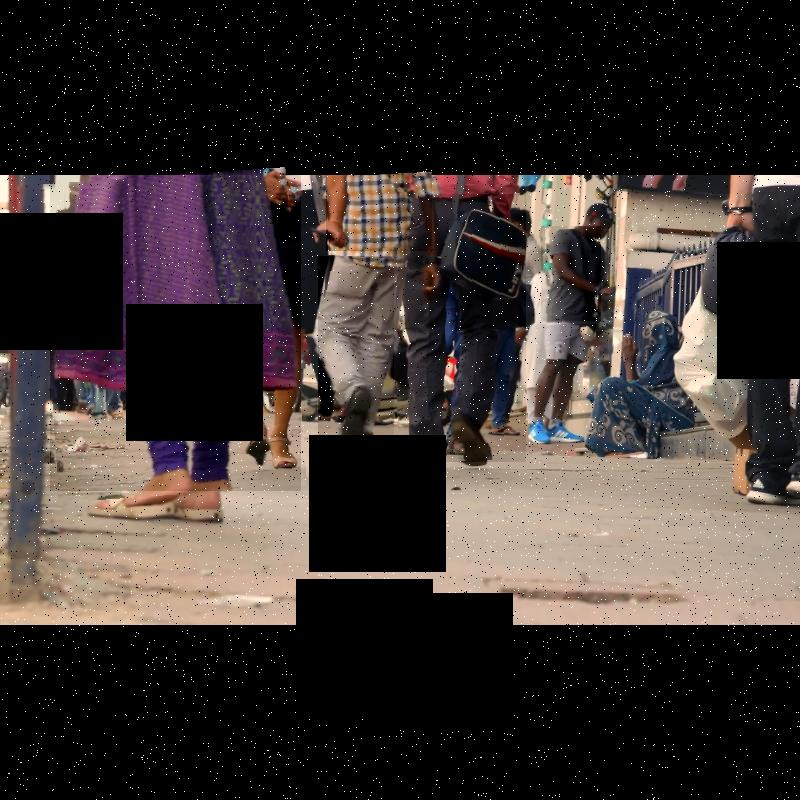Churidaar: (50, 169, 300, 491)
Pant: (392, 194, 526, 462), (318, 256, 394, 478)
Shirt: (326, 174, 432, 251)
Shorts: (536, 324, 608, 364)
Tshirt: (541, 227, 600, 321)
